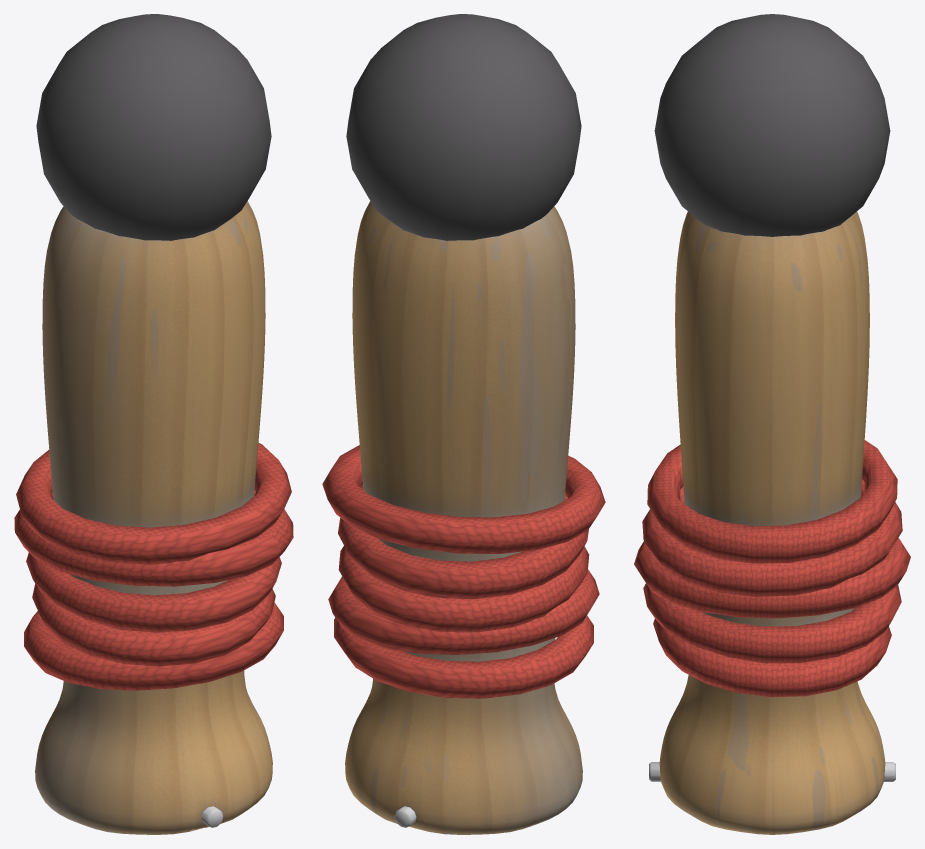
File: LowerArm_L.glb
3 renders of one model, left to right at view 1: azimuth 30°, elevation 25°; view 2: azimuth 150°, elevation 25°; view 3: azimuth 270°, elevation 25°, orthographic.
Parts seen in each view (by area): view 1: LowerArm_L, LowerArm_L_Wrap, LowerArm_L_Ball; view 2: LowerArm_L, LowerArm_L_Wrap, LowerArm_L_Ball; view 3: LowerArm_L, LowerArm_L_Wrap, LowerArm_L_Ball.
Boxes of the visible parts, x1,y1,x2,y2 form: LowerArm_L: (35,201,272,834); LowerArm_L_Wrap: (14,442,293,690); LowerArm_L_Ball: (36,14,271,240); LowerArm_L: (345,201,582,834); LowerArm_L_Wrap: (322,445,605,698); LowerArm_L_Ball: (346,14,581,240); LowerArm_L: (659,211,885,834); LowerArm_L_Wrap: (634,440,910,697); LowerArm_L_Ball: (654,14,890,236).
Bounding box in the file's own units: 0.109 × 0.3235 × 0.1058.
Materials: 4 (2 with a texture image).
